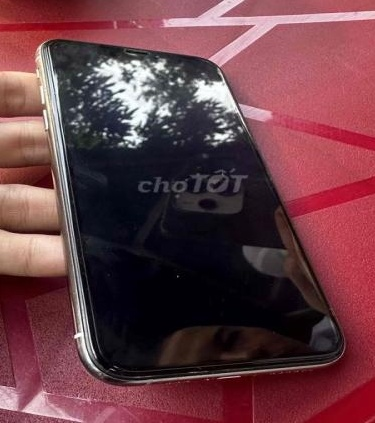scratch: (90, 363, 115, 389), (185, 368, 207, 378)
